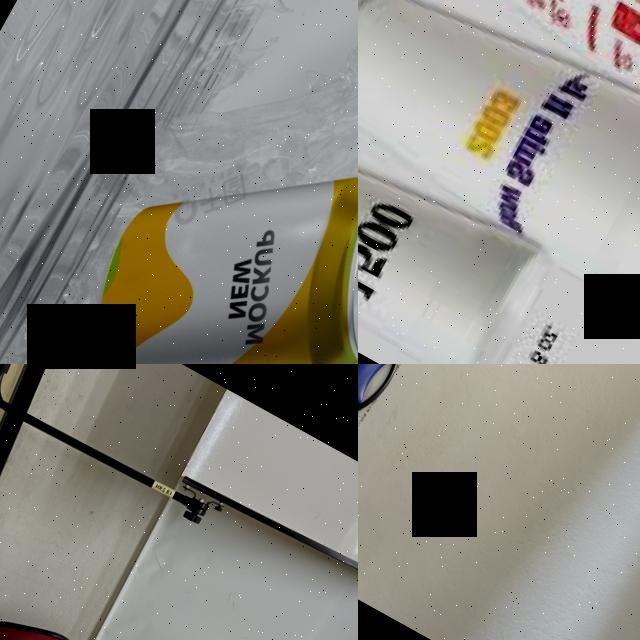can: (57, 77, 358, 364)
cup: (358, 0, 640, 364), (358, 0, 640, 253), (358, 103, 558, 364)
